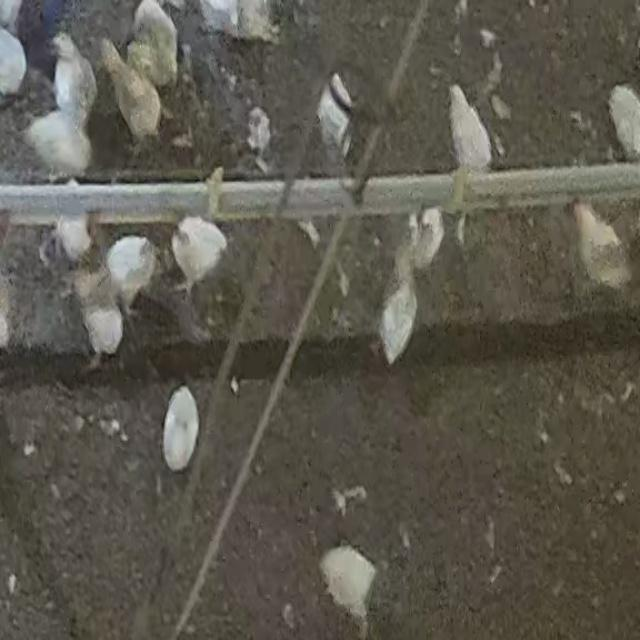chicken: (98, 39, 162, 144), (315, 549, 383, 640), (574, 201, 632, 299), (22, 104, 95, 179), (377, 248, 417, 370), (74, 266, 123, 360), (50, 28, 99, 122), (446, 83, 495, 173), (171, 215, 229, 290), (162, 382, 206, 477), (132, 0, 180, 84), (105, 233, 156, 306), (316, 73, 353, 162), (607, 83, 640, 159)
